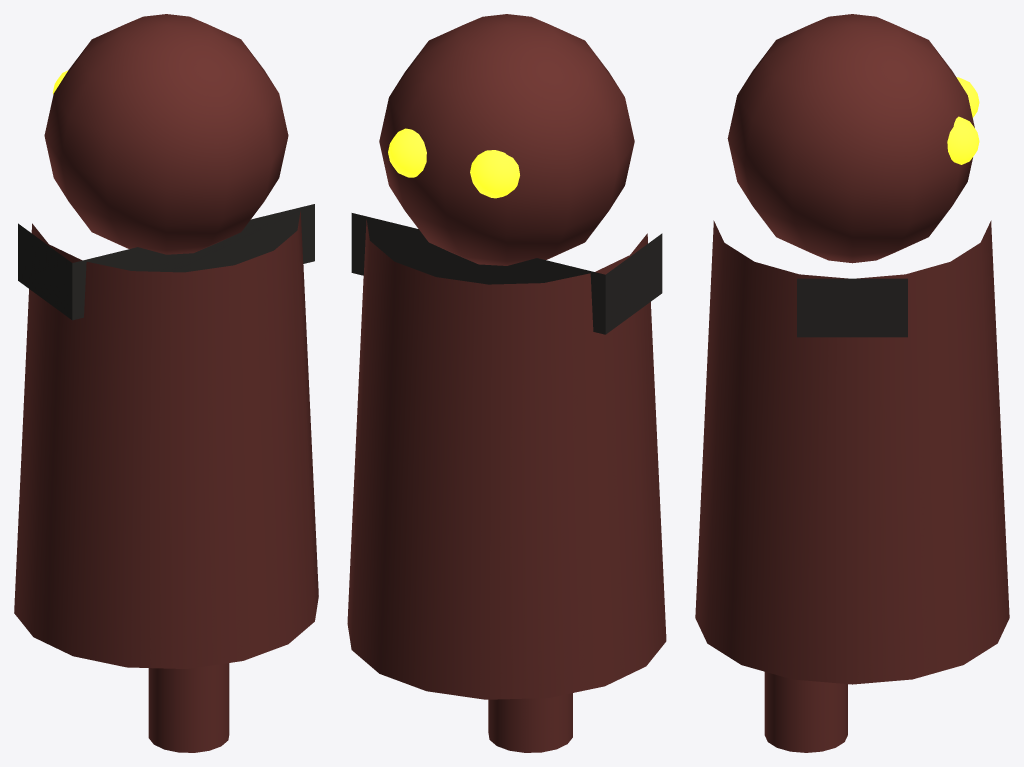
Rendered from model.monster.glb.
The picture shows the model from 3 angles, left to right: view 1: azimuth 30°, elevation 25°; view 2: azimuth 150°, elevation 25°; view 3: azimuth 270°, elevation 25°; orthographic projection. The views are drawn at different scales.
Parts seen in each view (by area): view 1: monster; view 2: monster; view 3: monster.
Part boxes in pixels (bbox=[...]): monster: bbox=[14, 14, 318, 752]; monster: bbox=[347, 14, 666, 752]; monster: bbox=[695, 14, 1009, 752].
Size of the model in its own units: 0.6802 by 1.7 by 0.6802.
